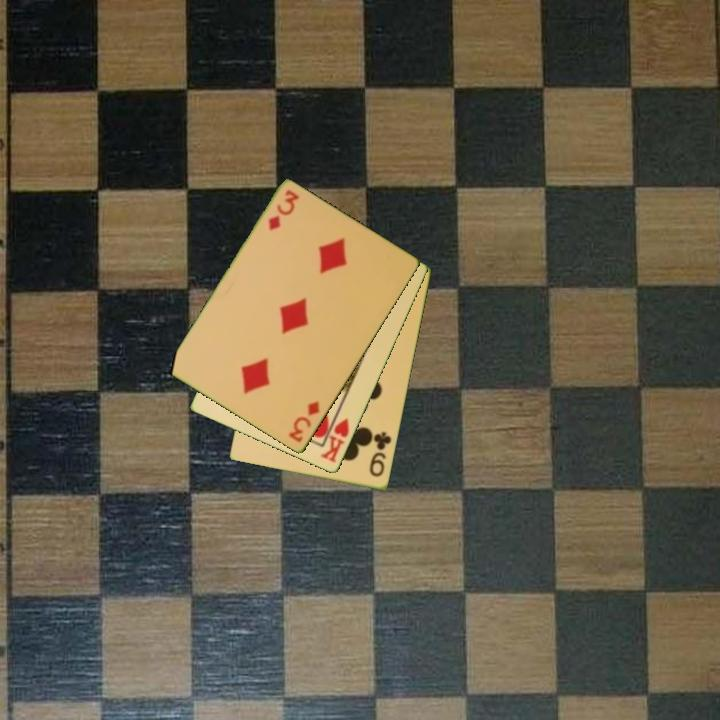3d: (285, 397, 323, 446), (264, 186, 302, 234)
9c: (366, 428, 395, 480)
Kh: (317, 408, 352, 466)
